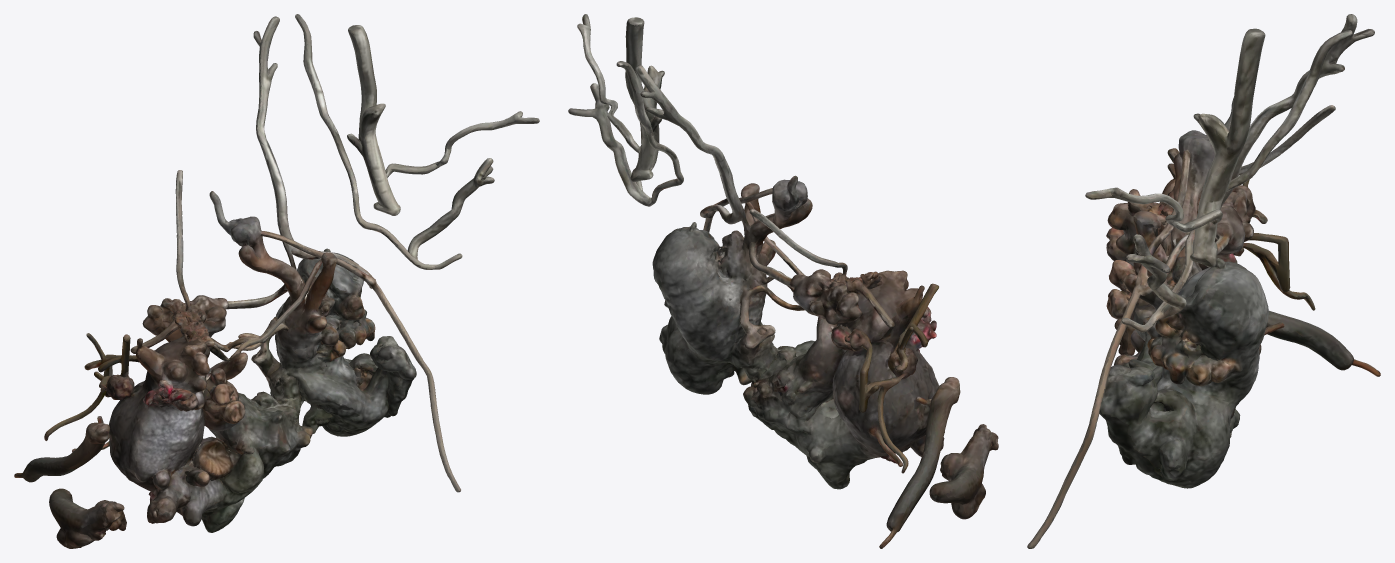
File: decayed-wood-v11.glb
3 views of the same model, side by side, from view 1: azimuth 30°, elevation 25°; view 2: azimuth 150°, elevation 25°; view 3: azimuth 270°, elevation 25° (orthographic). The views are drawn at different scales.
Visible parts, largest first — view 1: geometry_0; view 2: geometry_0; view 3: geometry_0.
Part boxes in pixels (left/top/right/bottom): geometry_0: left=14, top=14, right=539, bottom=548; geometry_0: left=568, top=14, right=998, bottom=548; geometry_0: left=1027, top=14, right=1380, bottom=548.
Bounding box in the file's own units: 0.922 × 0.9 × 0.5164.
Materials: 1 (1 with a texture image).
